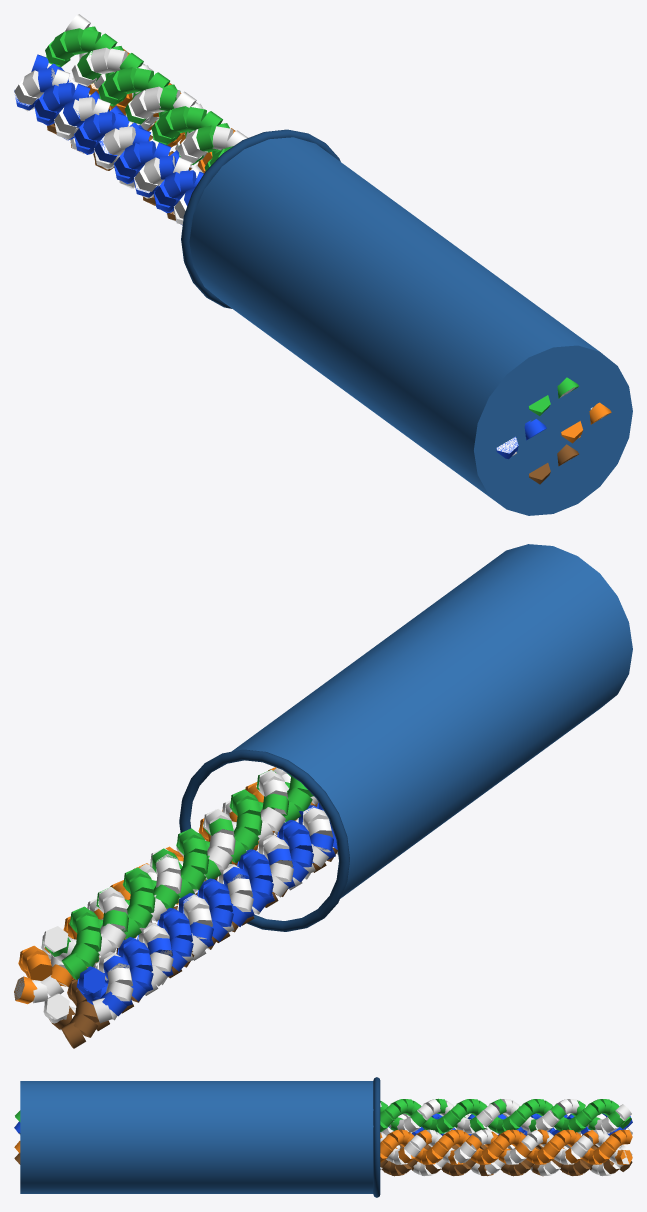
The model's file is cat-cable.glb.
3 renders of one model, top to bottom at view 1: azimuth 30°, elevation 25°; view 2: azimuth 150°, elevation 25°; view 3: azimuth 270°, elevation 25°, orthographic. The views are drawn at different scales.
Bounding box in the file's own units: 0.68 × 0.68 × 3.47.
